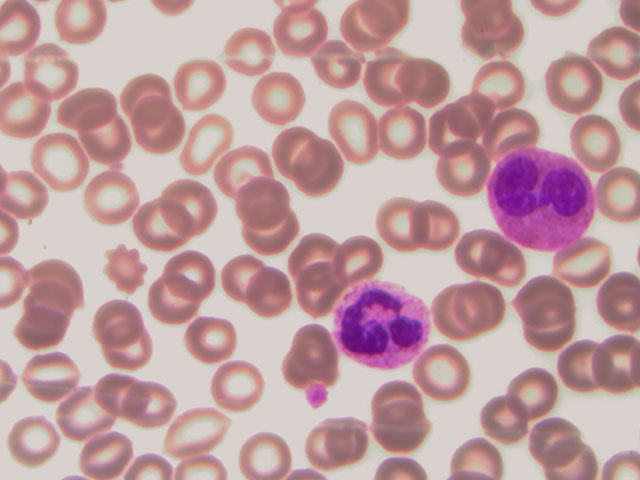Platelets: (306, 380, 329, 409)
RBC: (18, 41, 85, 98), (1, 81, 68, 138), (56, 80, 123, 137), (74, 109, 141, 166), (26, 133, 93, 190), (27, 257, 94, 314), (18, 289, 85, 346), (83, 294, 150, 351), (90, 245, 157, 302), (125, 202, 192, 259), (152, 173, 219, 230), (87, 173, 154, 230), (166, 114, 233, 171), (135, 106, 202, 163), (119, 67, 186, 124), (166, 54, 233, 111), (218, 18, 285, 75), (247, 70, 314, 127), (259, 119, 326, 176), (284, 141, 351, 198), (212, 142, 279, 199), (231, 173, 298, 230), (237, 197, 304, 254), (206, 250, 273, 307), (232, 265, 299, 322), (166, 249, 233, 306), (151, 270, 218, 327), (175, 310, 242, 367), (203, 355, 270, 412), (168, 405, 235, 462), (130, 374, 197, 431), (85, 362, 152, 419), (55, 381, 122, 438), (20, 345, 87, 402), (6, 409, 73, 466), (72, 423, 139, 480), (227, 423, 294, 480), (305, 416, 372, 473), (362, 402, 429, 459), (365, 369, 432, 426), (415, 337, 482, 394), (437, 423, 504, 480), (466, 397, 533, 454), (499, 363, 566, 420), (544, 337, 611, 394), (573, 334, 640, 391), (573, 275, 640, 332), (514, 272, 581, 329), (450, 222, 517, 279), (414, 200, 481, 257), (369, 191, 436, 248), (333, 228, 400, 285), (283, 226, 350, 283), (293, 267, 360, 324), (428, 145, 495, 202), (426, 97, 493, 154), (379, 106, 446, 163), (326, 102, 393, 159), (396, 51, 463, 108), (353, 52, 420, 109), (295, 37, 362, 94), (269, 3, 336, 60), (460, 8, 527, 65), (468, 53, 535, 110), (486, 101, 553, 158), (544, 58, 611, 115), (568, 114, 635, 171), (1, 165, 67, 222), (597, 167, 640, 219), (53, 1, 105, 44)
WBC: (485, 148, 588, 248), (334, 275, 431, 370)
